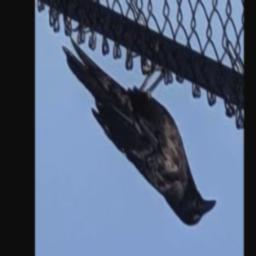Crow: (62, 36, 217, 227)
